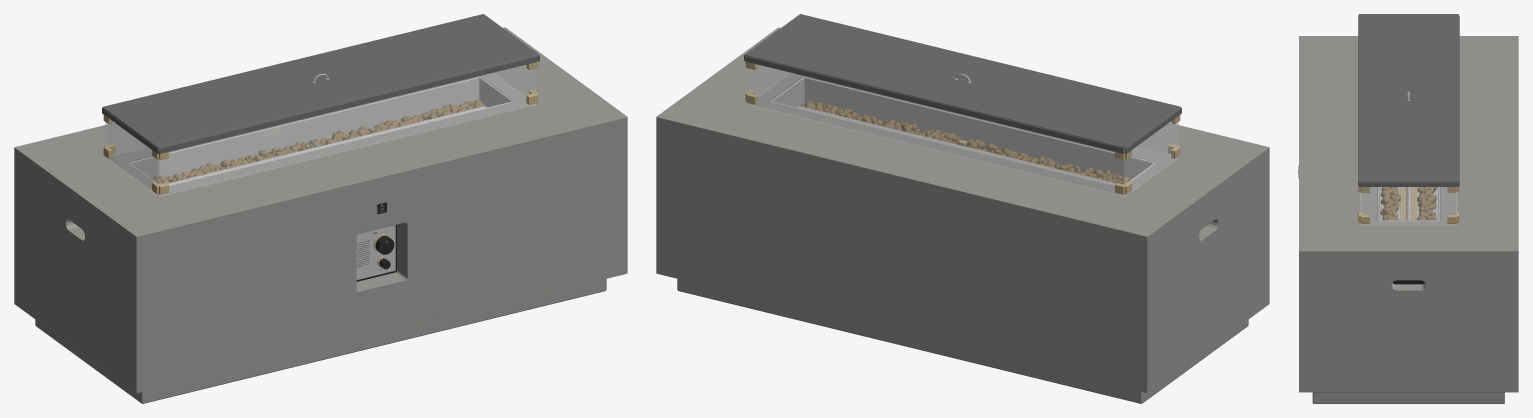
The model's file is fera.glb.
3 renders of one model, left to right at view 1: azimuth 30°, elevation 25°; view 2: azimuth 150°, elevation 25°; view 3: azimuth 270°, elevation 25°, orthographic. The views are drawn at different scales.
Parts seen in each view (by area): view 1: Fera_body, Fera_cover, Fera_glass, Fera_bowl, Fera_base, Fera_stones, Fera_controls, Fera_burner, Fera_hardware; view 2: Fera_body, Fera_cover, Fera_glass, Fera_bowl, Fera_base, Fera_stones, Fera_burner, Fera_hardware; view 3: Fera_body, Fera_cover, Fera_glass, Fera_base, Fera_stones, Fera_bowl, Fera_burner, Fera_hardware.
Boxes of the visible parts, <box> form: Fera_body: <box>14,27,627,393</box>; Fera_cover: <box>102,14,539,153</box>; Fera_glass: <box>105,65,536,196</box>; Fera_bowl: <box>128,76,514,185</box>; Fera_base: <box>35,279,606,403</box>; Fera_stones: <box>151,99,484,184</box>; Fera_controls: <box>356,224,396,281</box>; Fera_burner: <box>167,106,487,184</box>; Fera_hardware: <box>103,61,538,194</box>; Fera_body: <box>656,27,1269,393</box>; Fera_cover: <box>744,14,1181,153</box>; Fera_glass: <box>747,65,1178,196</box>; Fera_bowl: <box>769,76,1155,185</box>; Fera_base: <box>677,279,1248,403</box>; Fera_stones: <box>800,100,1132,184</box>; Fera_burner: <box>796,106,1116,184</box>; Fera_hardware: <box>745,61,1180,194</box>; Fera_body: <box>1299,36,1518,392</box>; Fera_cover: <box>1358,14,1459,186</box>; Fera_glass: <box>1360,187,1457,225</box>; Fera_base: <box>1312,392,1504,403</box>; Fera_stones: <box>1380,187,1437,220</box>; Fera_bowl: <box>1377,187,1439,221</box>; Fera_burner: <box>1400,187,1416,220</box>; Fera_hardware: <box>1358,186,1459,223</box>.
Size of the model in its own units: 1.6 by 0.7301 by 0.6921.
